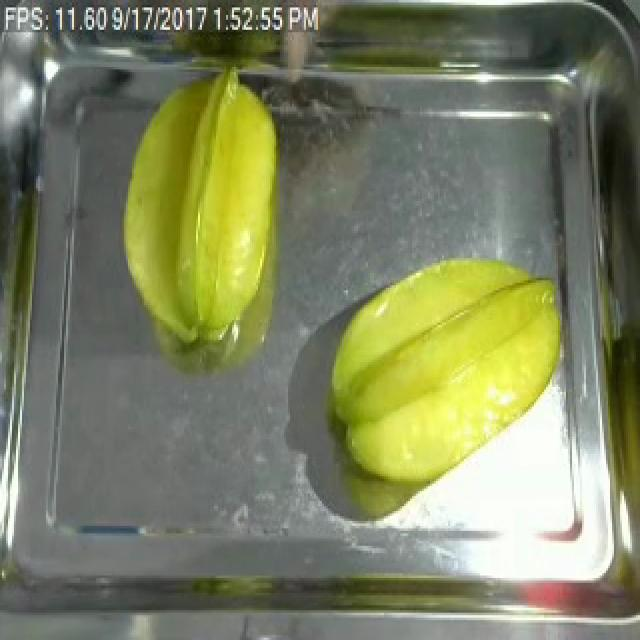fruit: (314, 241, 576, 506), (108, 59, 290, 354)
